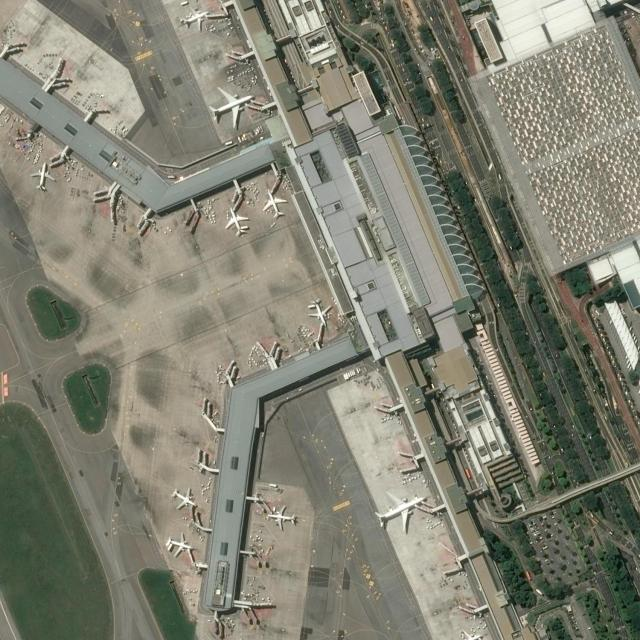Aircraft: (377, 488, 427, 531), (209, 85, 255, 130), (260, 189, 288, 225), (269, 502, 300, 530), (181, 5, 211, 33), (225, 204, 249, 239), (169, 485, 199, 513), (31, 162, 59, 190), (167, 534, 197, 557), (310, 299, 334, 321), (457, 628, 484, 640)
